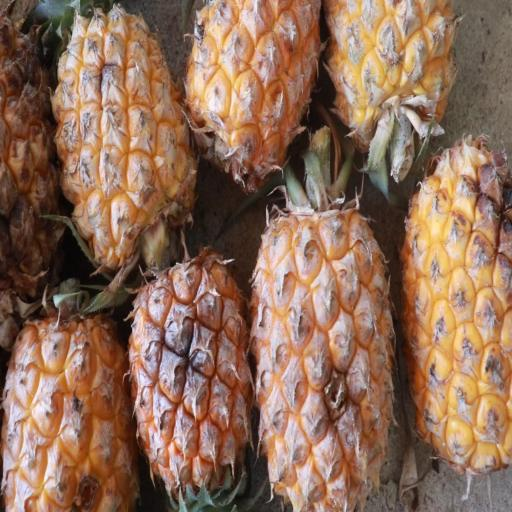Pineapple - v8 v1: (246, 158, 395, 511), (402, 138, 512, 486), (52, 12, 198, 272), (128, 239, 254, 510), (0, 296, 143, 512), (184, 0, 324, 183), (0, 0, 65, 312), (329, 3, 459, 158), (330, 0, 360, 161)
